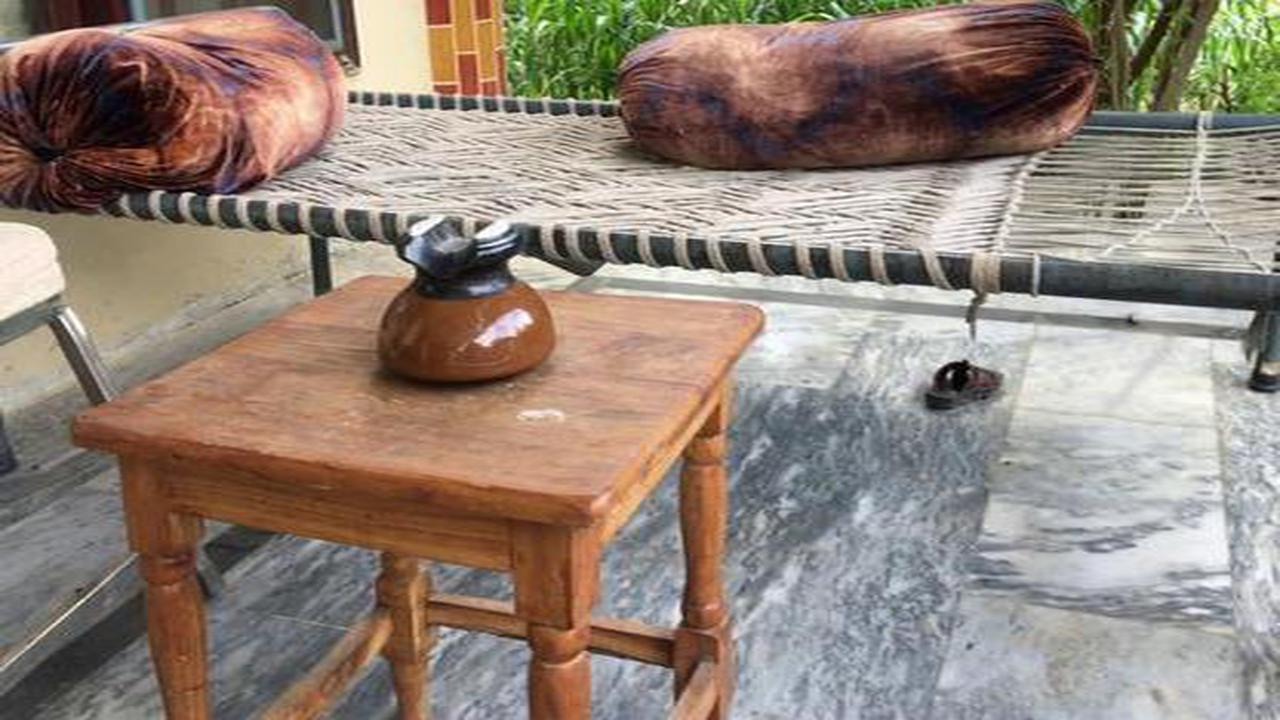insulator_pin: (364, 203, 579, 397)
